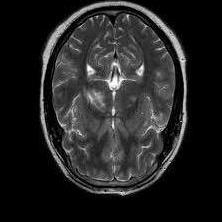Normal_Brain: (5, 6, 198, 216)
